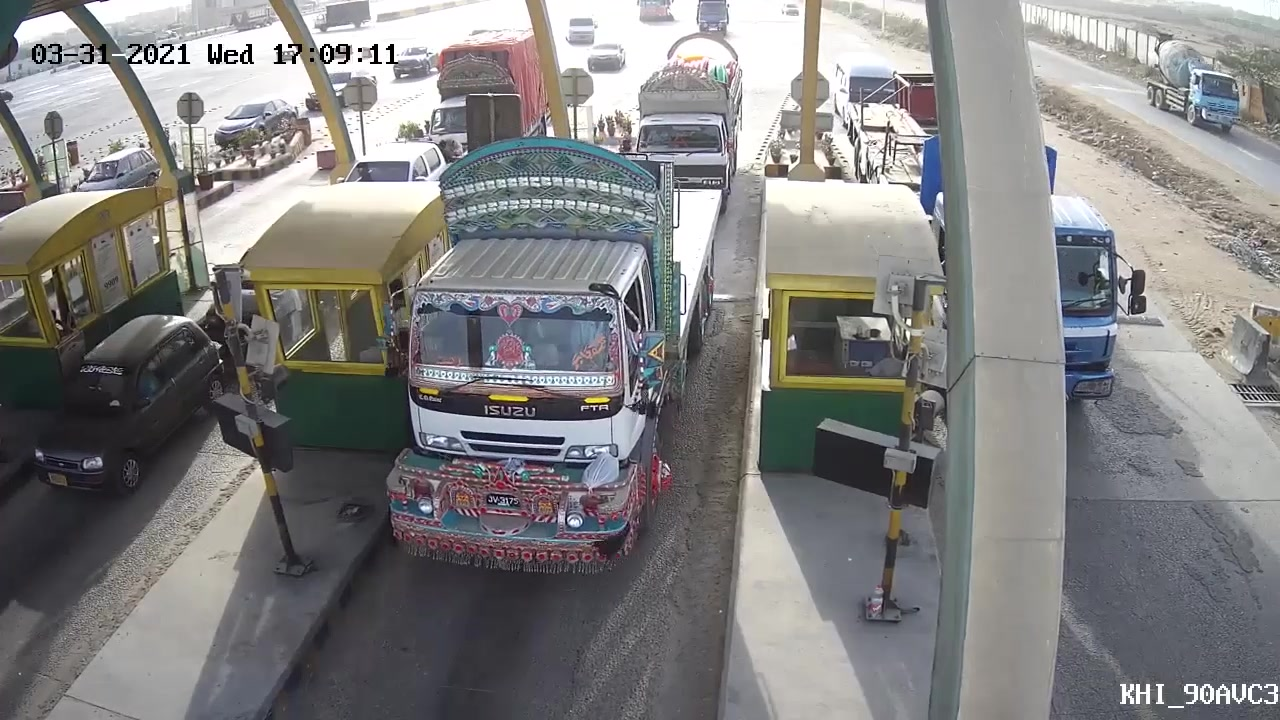F5: (372, 130, 705, 583)
